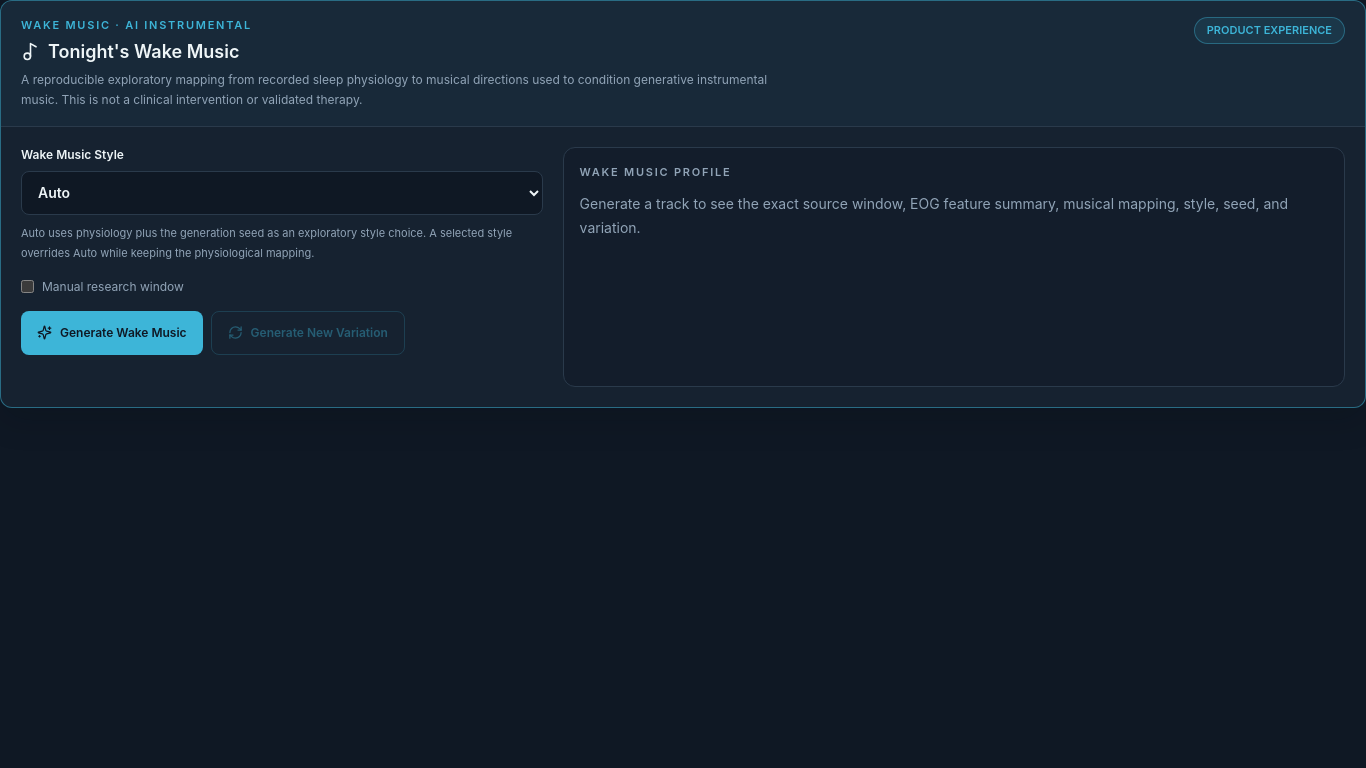
Test case: Wake Music product panel › requests a backend-seeded new variation from the prior generation
Step 1. Click the button "Generate Wake Music" → (112, 332), box x1=21 y1=310 x2=203 y2=354
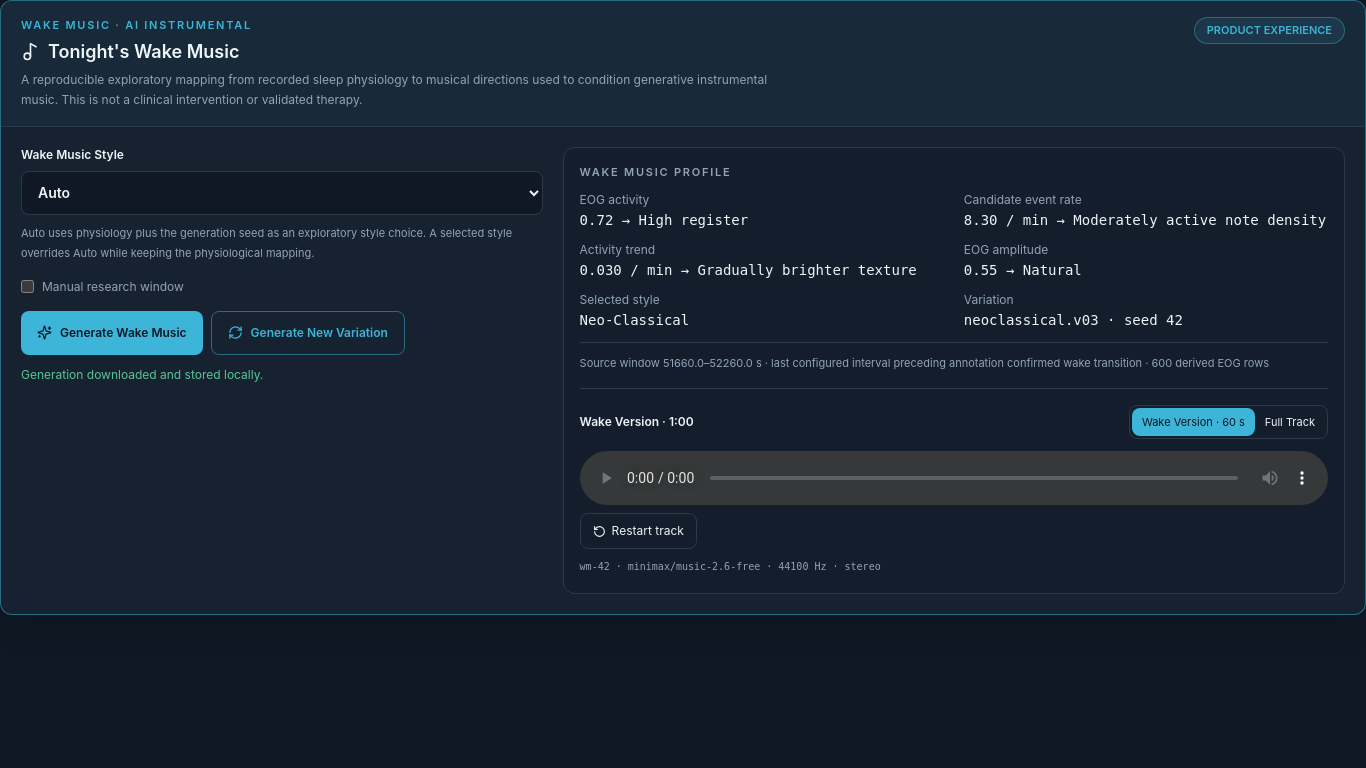
Now the element named "Generated Wake Music player" is shown, box x1=580 y1=451 x2=1328 y2=505
Step 2. Click the button "Generate New Variation" → (308, 332), box x1=211 y1=310 x2=405 y2=354
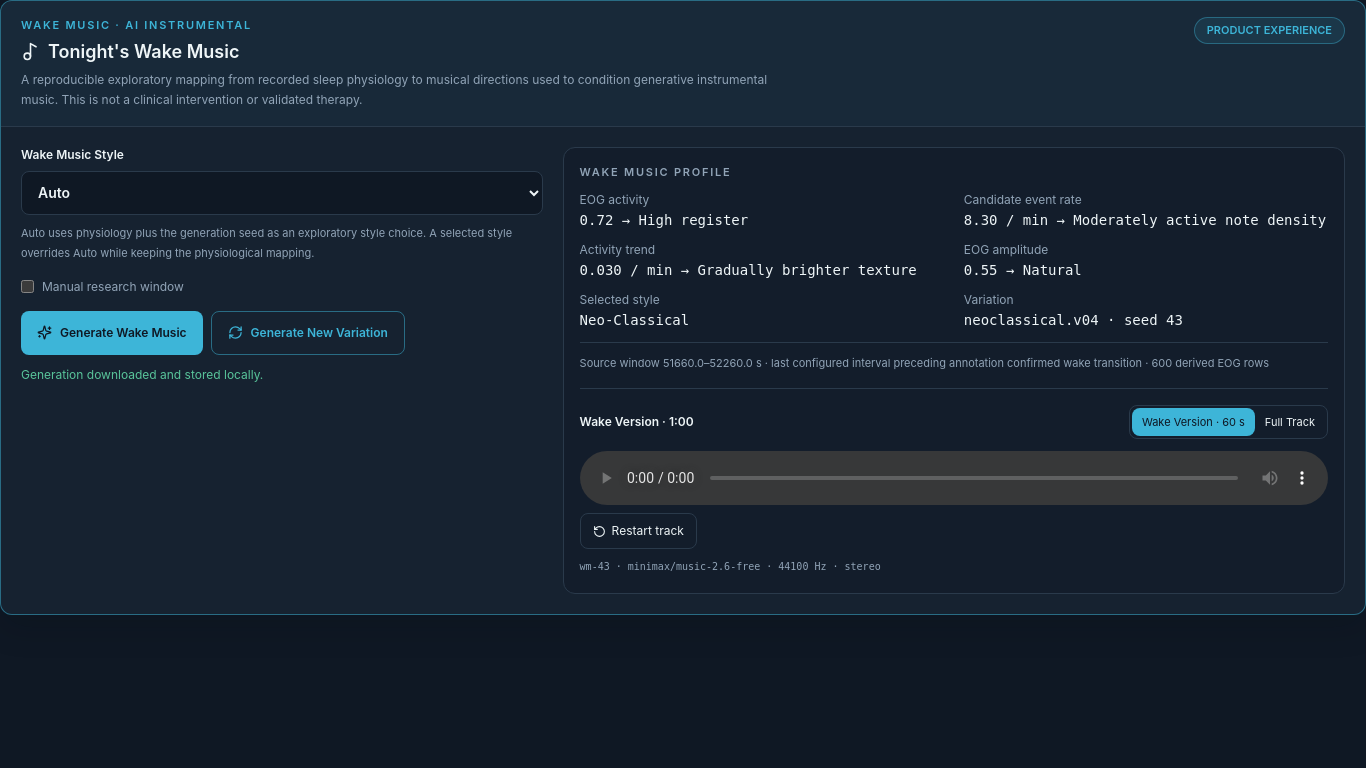
Now the text "neoclassical.v04 · seed 43" is shown, box x1=964 y1=312 x2=1183 y2=328
